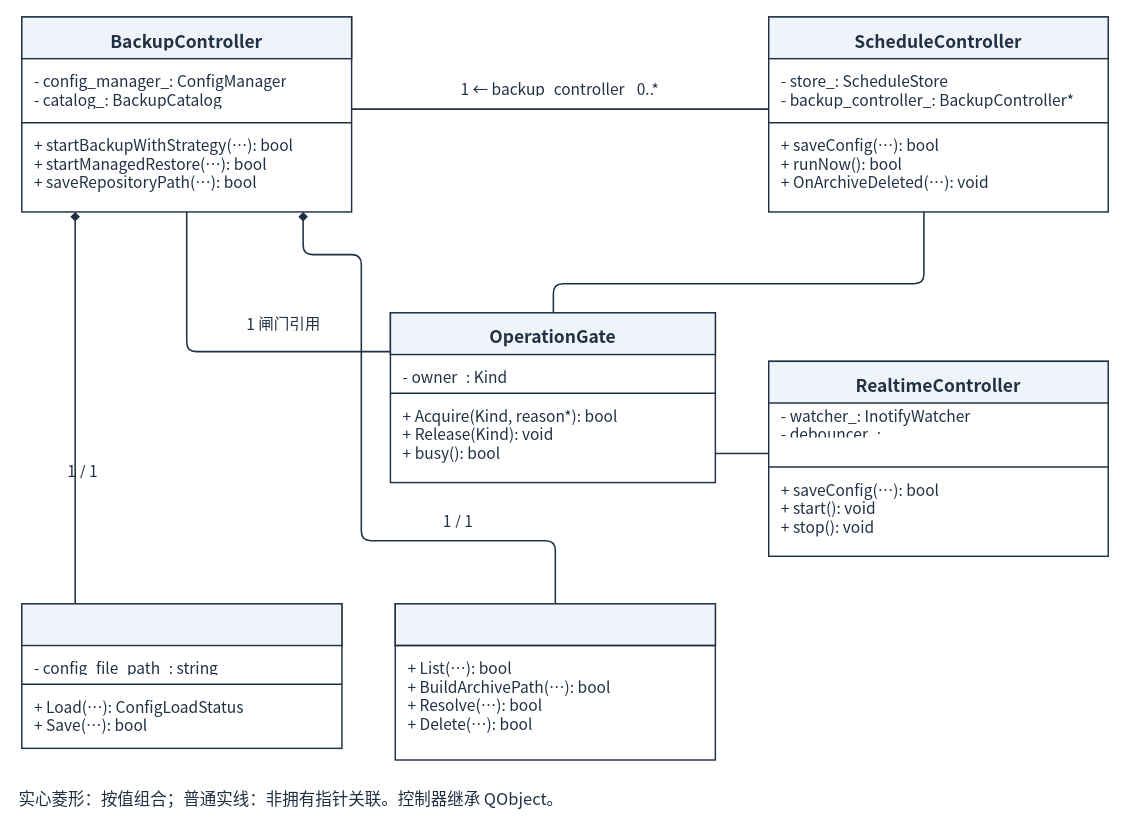
Some shapes in this 1129 by 827 pixel diagram are drawn without their labels. Each missing label, with the centre of its shape:
"BackupCatalog" belongs at pixel 555 624.
"ConfigManager" belongs at pixel 181 624.
